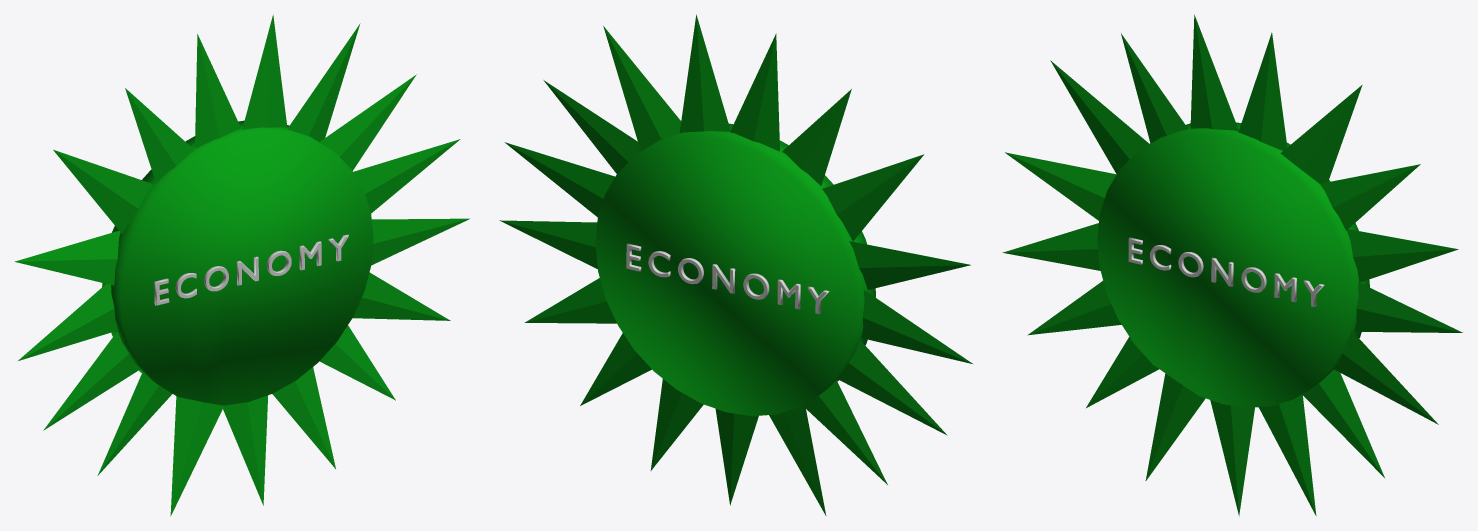
The picture shows the model from 3 angles, left to right: view 1: azimuth 30°, elevation 25°; view 2: azimuth 150°, elevation 25°; view 3: azimuth 330°, elevation 25°; orthographic projection. The views are drawn at different scales.
Visible parts, largest first — view 1: Circle, Efficiency Spark; view 2: Circle, Efficiency Spark.001; view 3: Circle, Efficiency Spark.
Boxes of the visible parts, box(x1,y1,x2,y2) form: Circle: box(14, 14, 469, 516); Efficiency Spark: box(154, 234, 348, 305); Circle: box(499, 14, 973, 515); Efficiency Spark.001: box(626, 243, 829, 313); Circle: box(1002, 14, 1462, 516); Efficiency Spark: box(1128, 237, 1324, 306).
Size of the model in its own units: 15.47 by 15.49 by 1.5.
